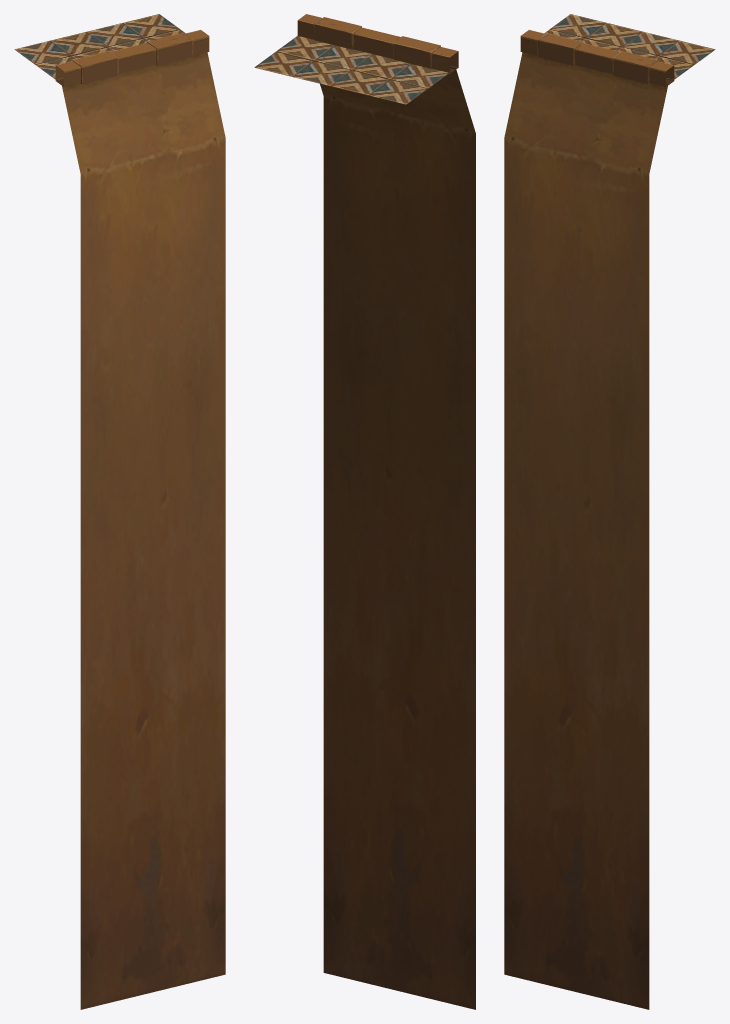
File: shakian_cliff_base24_wallunder01_01.FBX
3 renders of one model, left to right at view 1: azimuth 30°, elevation 25°; view 2: azimuth 150°, elevation 25°; view 3: azimuth 330°, elevation 25°, orthographic. The views are drawn at different scales.
Visible parts, largest first — view 1: shakian_cliff_base24_wallunder01_01; view 2: shakian_cliff_base24_wallunder01_01; view 3: shakian_cliff_base24_wallunder01_01.
Boxes of the visible parts, x1=… form: shakian_cliff_base24_wallunder01_01: x1=14, y1=14, x2=225, y2=1009; shakian_cliff_base24_wallunder01_01: x1=254, y1=14, x2=475, y2=1009; shakian_cliff_base24_wallunder01_01: x1=504, y1=14, x2=715, y2=1009.
Size of the model in its own units: 4 by 24.41 by 3.17.
